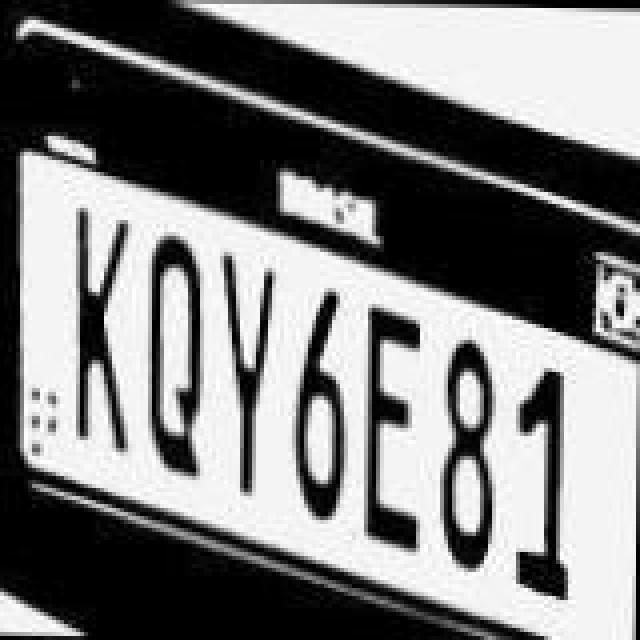1: (510, 354, 574, 622)
6: (286, 284, 350, 528)
8: (438, 334, 502, 578)
E: (358, 304, 430, 560)
K: (70, 204, 138, 452)
Q: (140, 234, 212, 486)
Y: (218, 250, 278, 502)
